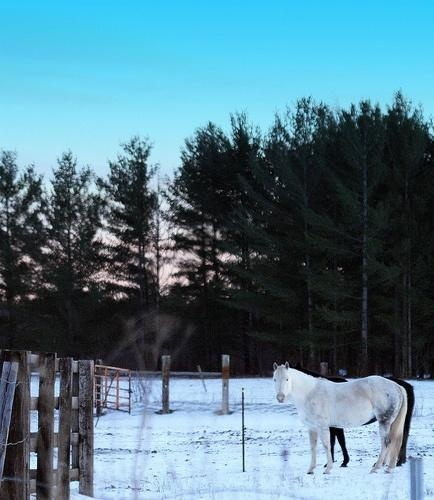horse: (271, 362, 410, 476), (287, 362, 415, 466)
